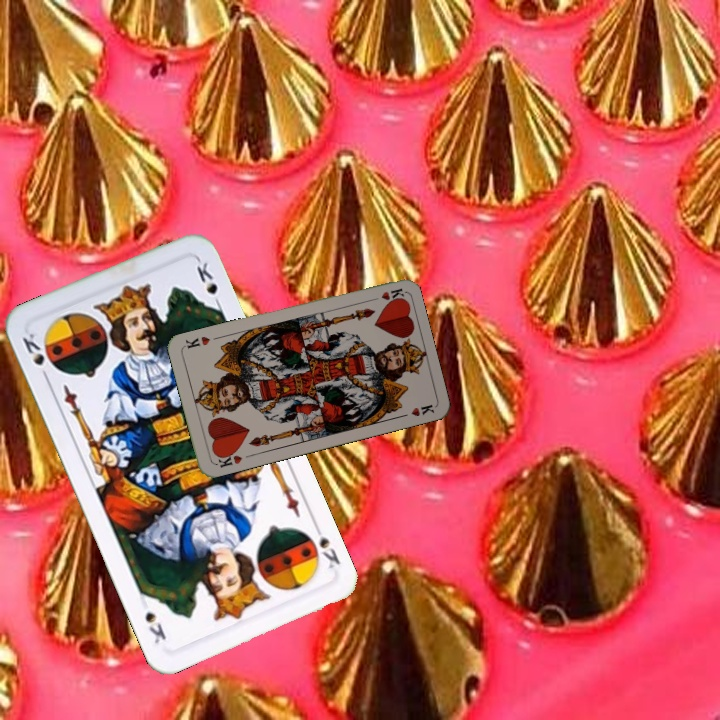HK: (364, 284, 405, 304), (212, 447, 245, 470)
SK: (18, 329, 52, 384), (309, 519, 343, 572)
